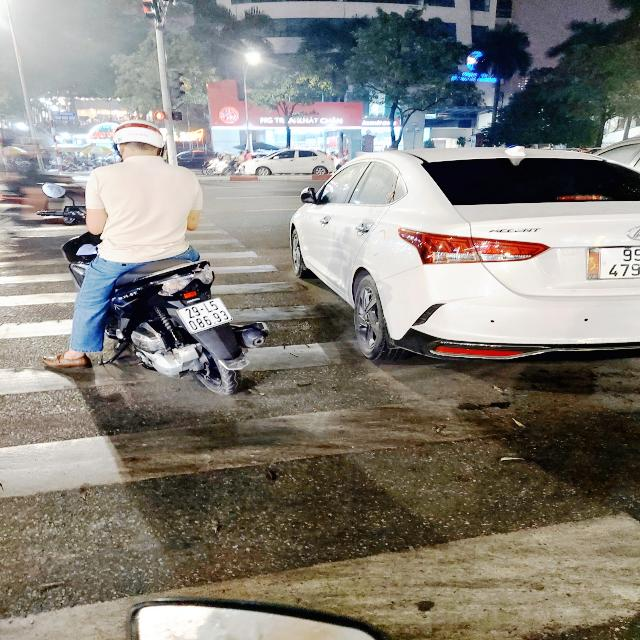license_plate: (180, 297, 236, 334)
